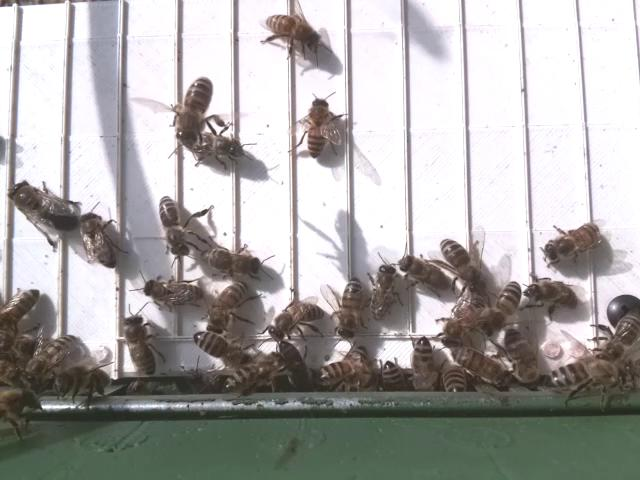Drone: (6, 179, 83, 236)
Worker: (438, 235, 493, 295), (171, 75, 213, 147), (25, 331, 81, 379), (260, 11, 323, 53), (540, 225, 606, 265), (206, 277, 252, 334), (265, 300, 328, 341), (155, 192, 193, 259), (78, 209, 119, 269), (482, 278, 524, 334), (192, 329, 250, 369), (198, 244, 262, 280), (122, 312, 157, 377), (366, 263, 402, 324), (141, 275, 207, 308), (334, 275, 366, 343), (399, 252, 449, 295), (523, 276, 580, 313), (303, 93, 334, 161)
